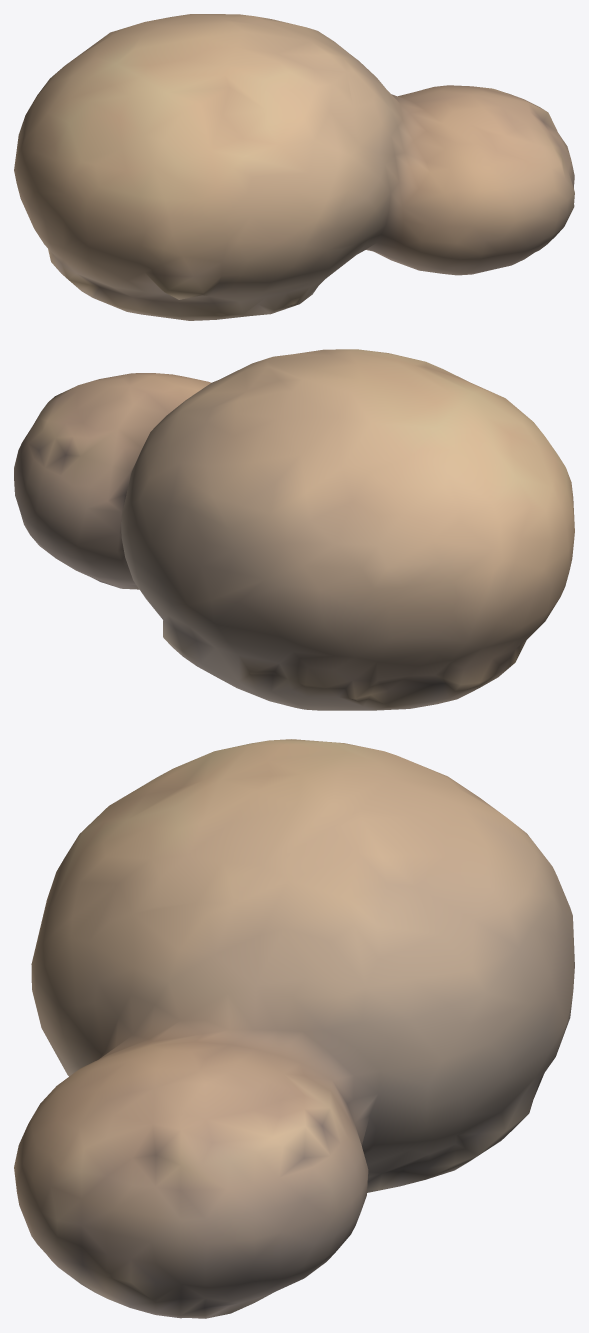
File: env_fr_rock2.glb
The picture shows the model from 3 angles, top to bottom: view 1: azimuth 30°, elevation 25°; view 2: azimuth 150°, elevation 25°; view 3: azimuth 270°, elevation 25°; orthographic projection. The views are drawn at different scales.
Visible parts, largest first — view 1: geometry_0; view 2: geometry_0; view 3: geometry_0.
Boxes of the visible parts, left/top/right/bottom form: geometry_0: left=14, top=14, right=574, bottom=320; geometry_0: left=14, top=349, right=574, bottom=710; geometry_0: left=14, top=739, right=574, bottom=1318.
Size of the model in its own units: 2.31 by 1.11 by 1.59.
